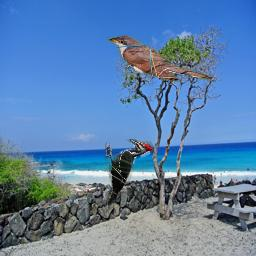Cuckoo: (106, 33, 215, 86)
Woodpecker: (105, 139, 154, 208)
